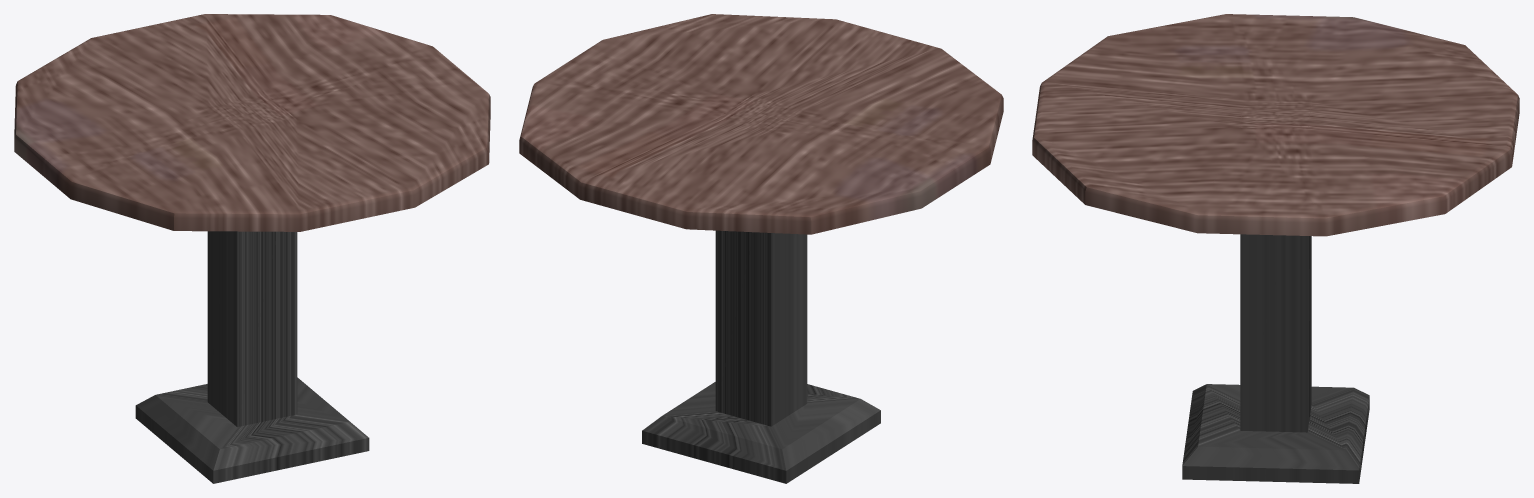
The model's file is Mesa.fbx.
3 renders of one model, left to right at view 1: azimuth 30°, elevation 25°; view 2: azimuth 150°, elevation 25°; view 3: azimuth 270°, elevation 25°, orthographic. The views are drawn at different scales.
Visible parts, largest first — view 1: table1; view 2: table1; view 3: table1.
Boxes of the visible parts, x1,y1,x2,y2 form: table1: [14, 14, 490, 483]; table1: [519, 14, 1003, 483]; table1: [1032, 14, 1519, 483].
Bounding box in the file's own units: 239 × 178 × 239.
